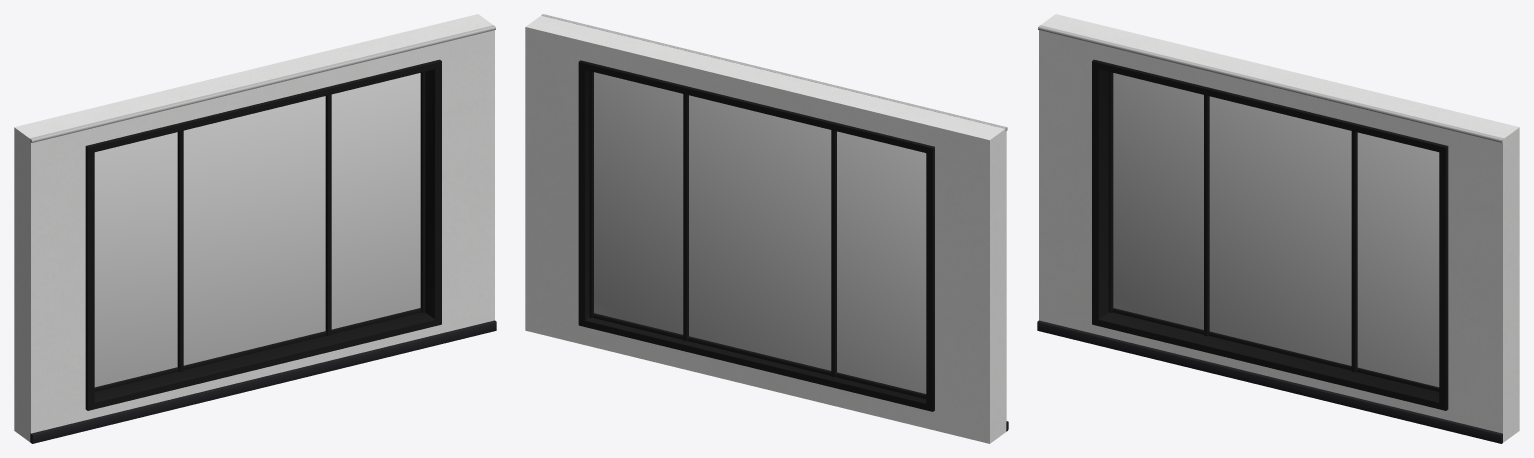
File: Wall_C.fbx
3 views of the same model, side by side, from view 1: azimuth 30°, elevation 25°; view 2: azimuth 150°, elevation 25°; view 3: azimuth 330°, elevation 25° (orthographic).
Visible parts, largest first — view 1: Wall_C; view 2: Wall_C; view 3: Wall_C.
Part boxes in pixels (<box>): Wall_C: <box>14,14,496,443</box>; Wall_C: <box>525,14,1008,443</box>; Wall_C: <box>1037,14,1519,443</box>.
Bounding box in the file's own units: 8 × 5 × 0.6187.
